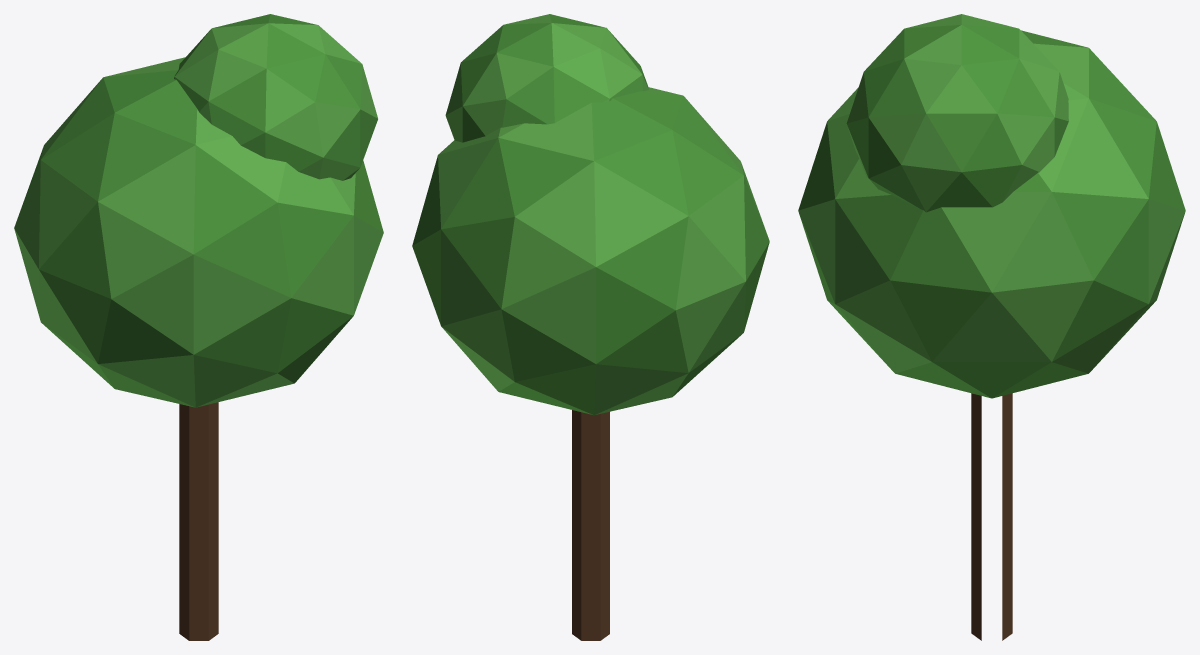
Rendered from tree.glb.
3 renders of one model, left to right at view 1: azimuth 30°, elevation 25°; view 2: azimuth 150°, elevation 25°; view 3: azimuth 270°, elevation 25°, orthographic. The views are drawn at different scales.
Bounding box in the file's own units: 3.2 × 5.8 × 3.2.
